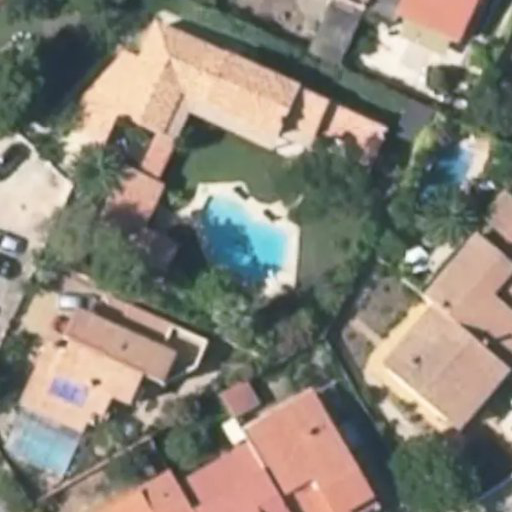pool: (195, 233, 312, 253)
